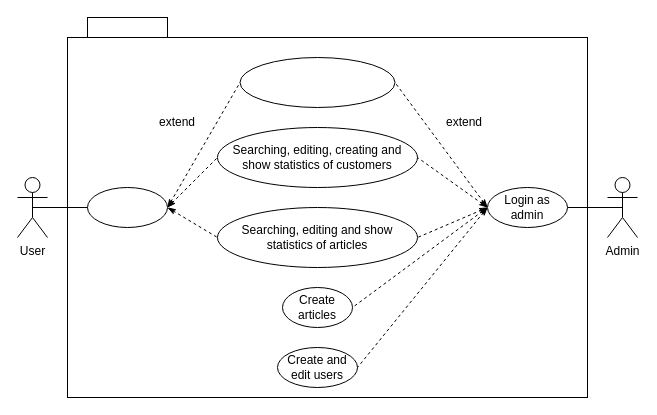
Some shapes in this 657 by 415 pixel diagram are drawn without their labels. The centre of each missing label's shape, as x and y in pixels:
ERCMSystem: the point at 127,27
Login as user: the point at 127,207
Searching, editing and creating orders: the point at 317,82
